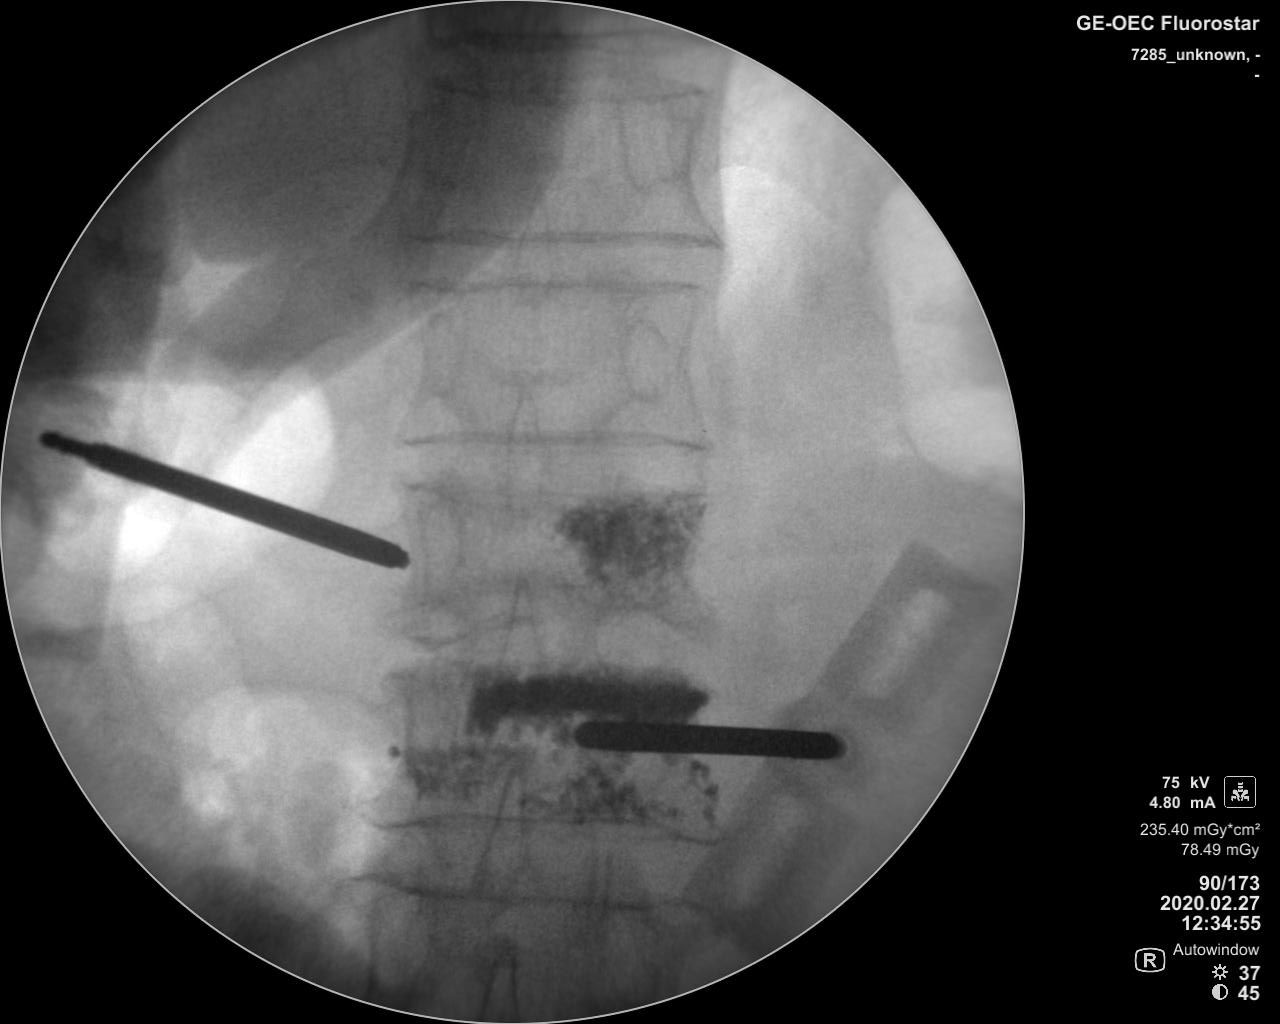eyes: (618, 97, 675, 196), (371, 895, 430, 991), (619, 318, 674, 408), (417, 497, 465, 586), (420, 308, 463, 404)
line: (350, 872, 678, 914), (357, 809, 719, 846), (396, 427, 715, 460), (404, 224, 734, 254), (423, 73, 711, 104), (428, 27, 702, 59), (402, 274, 713, 297)
nose: (478, 759, 528, 902), (505, 387, 546, 528), (510, 188, 556, 305), (501, 575, 544, 685), (479, 947, 525, 1022)
